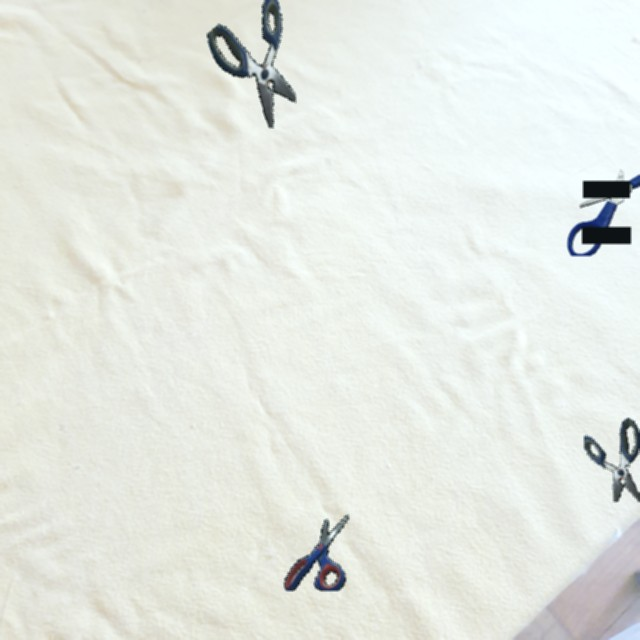scissors: (207, 0, 296, 128), (567, 160, 640, 256), (284, 514, 349, 591), (584, 418, 640, 502)
